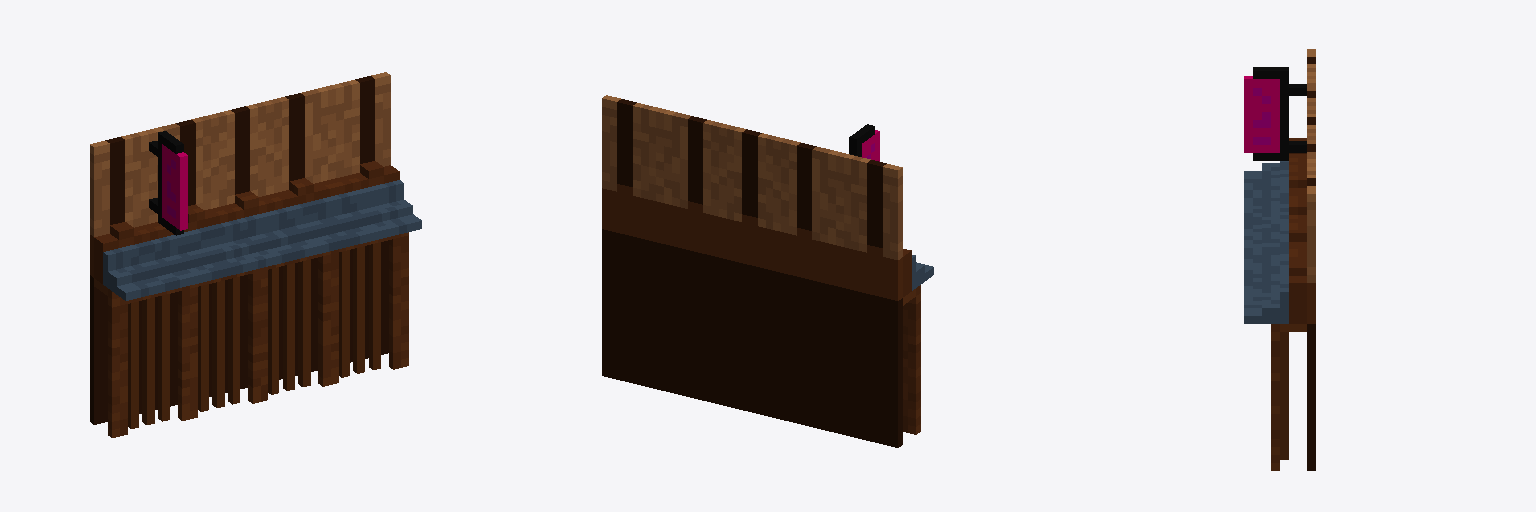
3 views of the same model, side by side, from view 1: azimuth 30°, elevation 25°; view 2: azimuth 150°, elevation 25°; view 3: azimuth 270°, elevation 25° (orthographic).
Visible parts, largest first — view 1: object 1; view 2: object 1; view 3: object 1.
Boxes of the visible parts, <box> form: object 1: <box>90,72,421,437</box>; object 1: <box>602,95,933,447</box>; object 1: <box>1244,49,1315,470</box>.
Size of the model in its own units: 3.8 by 3.5 by 0.8.
Materials: 1 (1 with a texture image).